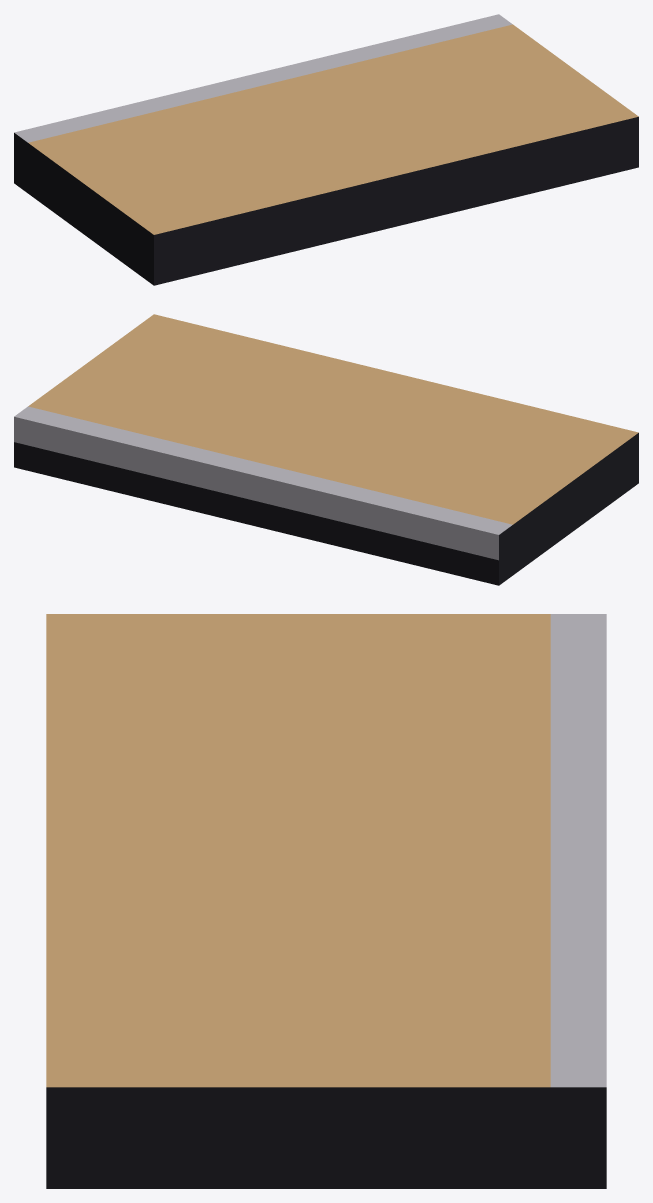
The model's file is ManPad_Half_1_OneGrind.fbx.
3 views of the same model, one above another, from view 1: azimuth 30°, elevation 25°; view 2: azimuth 150°, elevation 25°; view 3: azimuth 270°, elevation 25° (orthographic). The views are drawn at different scales.
Parts seen in each view (by area): view 1: ManPad_Half_1_OneGrind; view 2: ManPad_Half_1_OneGrind; view 3: ManPad_Half_1_OneGrind.
Boxes of the visible parts, x1,y1,x2,y2 form: ManPad_Half_1_OneGrind: [14, 14, 638, 285]; ManPad_Half_1_OneGrind: [14, 314, 638, 585]; ManPad_Half_1_OneGrind: [46, 614, 606, 1188].
Bounding box in the file's own units: 10 × 1 × 5.
